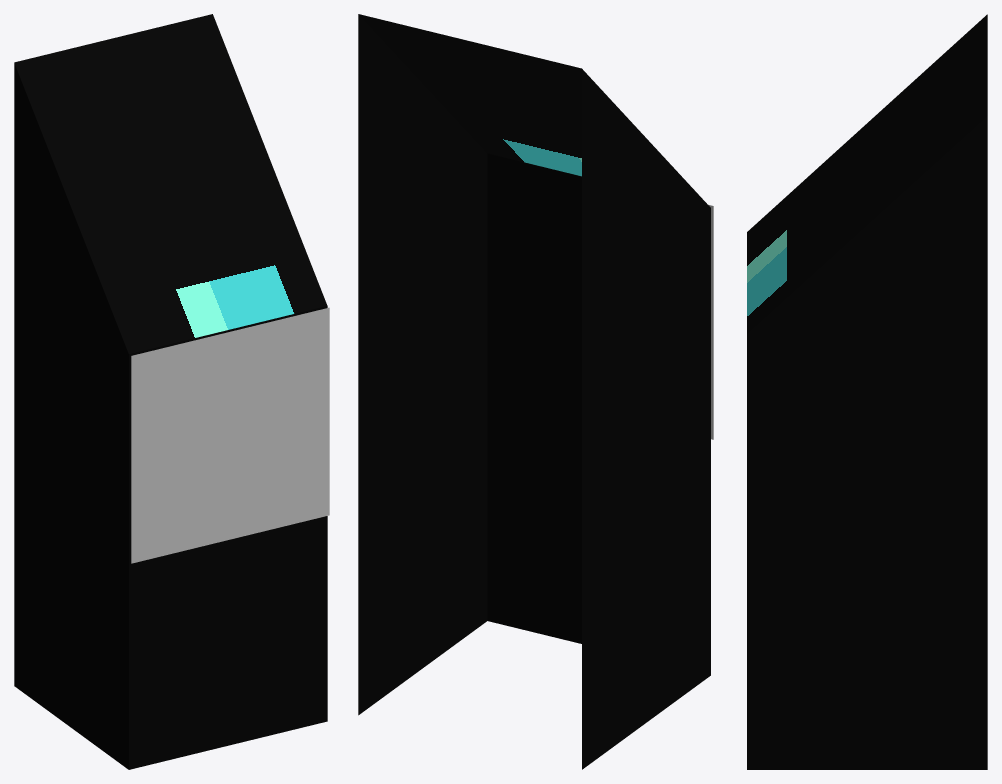
File: door-switch.gltf
3 renders of one model, left to right at view 1: azimuth 30°, elevation 25°; view 2: azimuth 150°, elevation 25°; view 3: azimuth 270°, elevation 25°, orthographic. The views are drawn at different scales.
Size of the model in its own units: 2 by 6 by 2.04.
